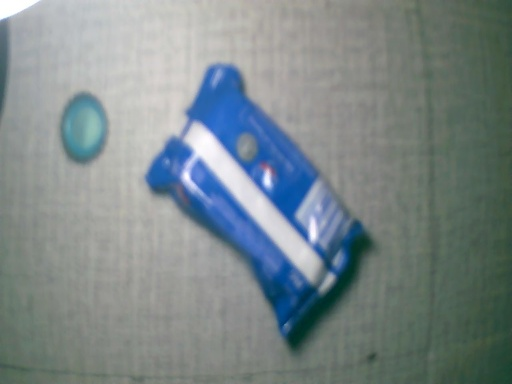metal: (59, 88, 111, 164)
plastic: (153, 66, 377, 341)
